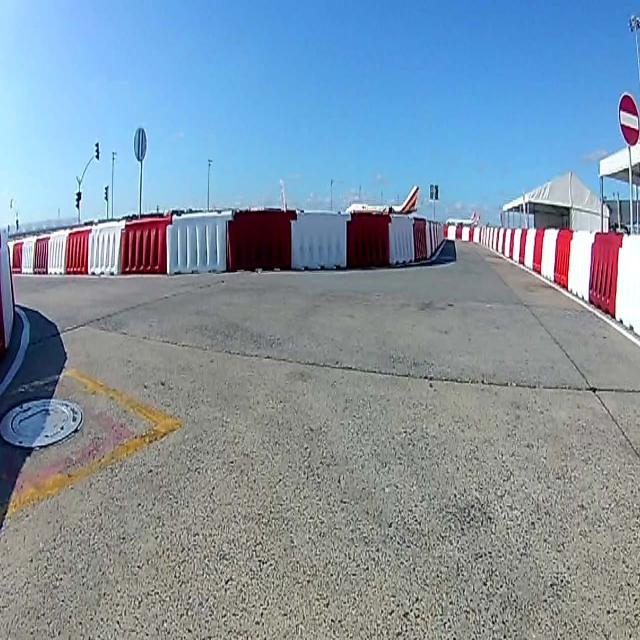girisyok: (617, 88, 639, 148)
